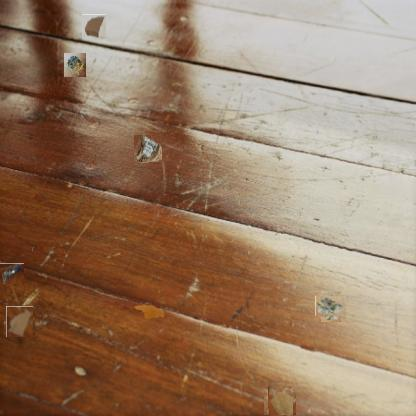dirty: (5, 307, 34, 336), (134, 134, 162, 162), (318, 294, 344, 319), (82, 14, 107, 39), (64, 53, 86, 77), (0, 263, 24, 284)
liquid: (265, 388, 294, 416), (134, 304, 164, 320)
